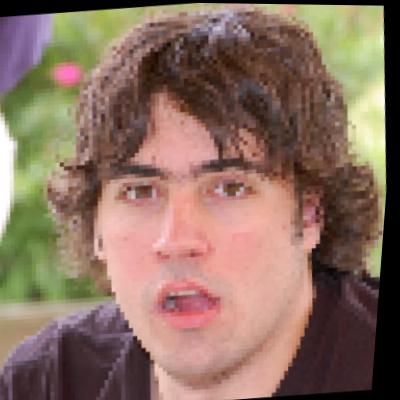surprise: (81, 67, 330, 384)
